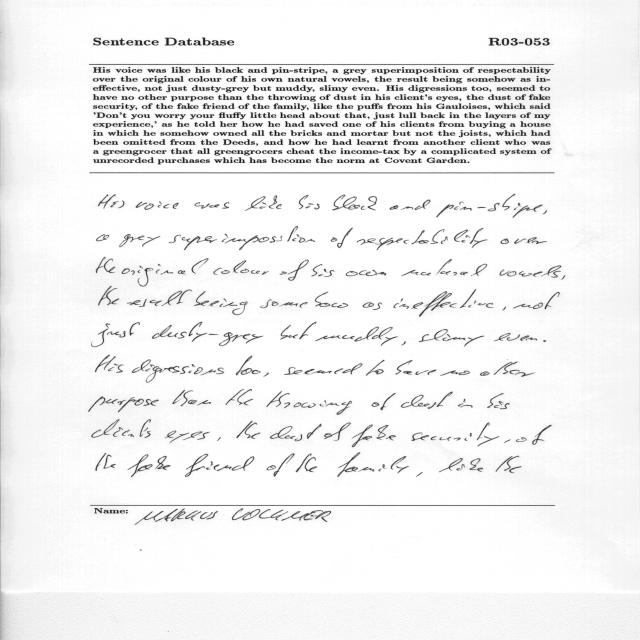word: (169, 227, 315, 251), (110, 258, 209, 287), (357, 228, 487, 250), (393, 289, 494, 317), (152, 322, 263, 346), (436, 194, 543, 218), (132, 360, 224, 383), (412, 423, 500, 447), (266, 391, 352, 415), (337, 453, 409, 477), (315, 326, 398, 346), (185, 454, 254, 477), (401, 259, 487, 276), (261, 292, 349, 308), (194, 291, 247, 315), (92, 322, 140, 347), (127, 289, 192, 307), (419, 329, 484, 347), (92, 419, 151, 438), (89, 397, 159, 413), (352, 425, 396, 448), (480, 359, 535, 377), (128, 454, 171, 477), (284, 363, 362, 375), (401, 391, 453, 409), (270, 424, 322, 441), (213, 260, 269, 275), (500, 265, 562, 278), (513, 292, 560, 309), (332, 195, 377, 211), (516, 425, 552, 445), (267, 453, 295, 477), (280, 322, 317, 340), (439, 458, 483, 472), (396, 360, 437, 375), (280, 260, 309, 281), (173, 390, 211, 406), (245, 195, 282, 211), (165, 431, 210, 444), (119, 234, 160, 247), (95, 355, 124, 373), (324, 422, 351, 441), (236, 356, 260, 376), (390, 199, 431, 210), (496, 456, 522, 473), (331, 228, 353, 248), (226, 389, 253, 405), (237, 421, 261, 439), (371, 393, 396, 410), (296, 454, 317, 473), (99, 194, 125, 209), (136, 201, 179, 210), (99, 288, 119, 306), (96, 453, 116, 471), (488, 393, 510, 409), (494, 333, 537, 341), (501, 237, 547, 244), (97, 257, 116, 273), (366, 360, 385, 376), (312, 264, 335, 277), (299, 195, 320, 209), (195, 202, 230, 209), (346, 270, 386, 276), (363, 302, 382, 310), (440, 371, 470, 376), (458, 399, 473, 408), (97, 235, 109, 242), (416, 472, 423, 477), (263, 372, 269, 377), (504, 439, 510, 443), (562, 275, 566, 280), (543, 210, 547, 214), (502, 307, 506, 311), (402, 341, 406, 345), (217, 437, 221, 441), (543, 340, 546, 342)
